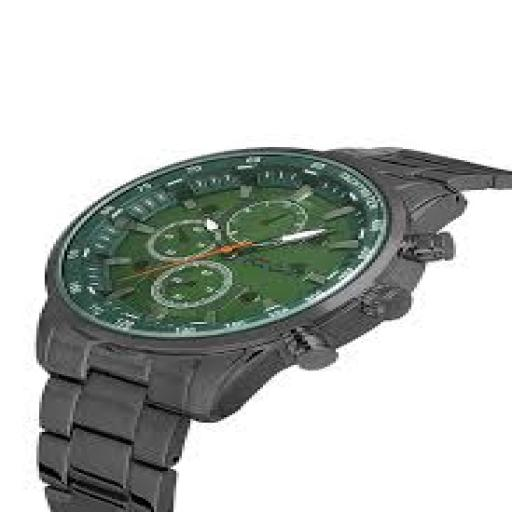KolSaati: (5, 111, 512, 512)
